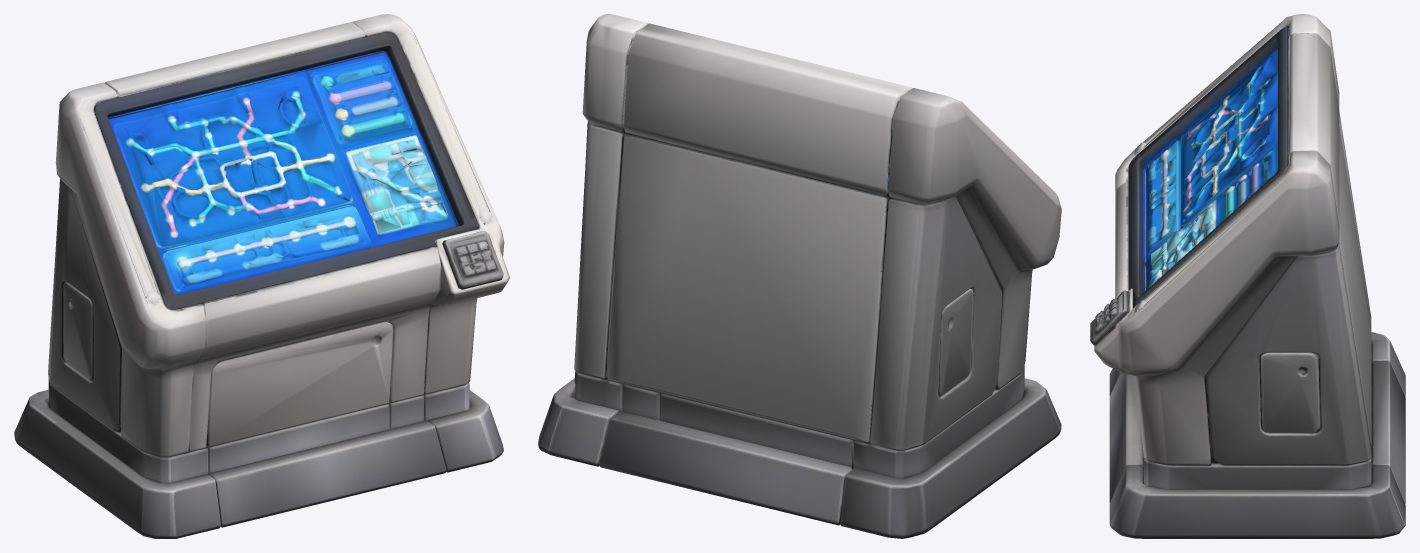
Rendered from lore_stone.fbx.
3 views of the same model, side by side, from view 1: azimuth 30°, elevation 25°; view 2: azimuth 150°, elevation 25°; view 3: azimuth 270°, elevation 25° (orthographic). The views are drawn at different scales.
Visible parts, largest first — view 1: lore_stone; view 2: lore_stone; view 3: lore_stone.
Part boxes in pixels (box(x1,y1,x2,y2)): lore_stone: box(14, 14, 509, 538); lore_stone: box(538, 14, 1061, 538); lore_stone: box(1090, 14, 1405, 538).
Bounding box in the file's own units: 1.32 × 1.29 × 1.02.
